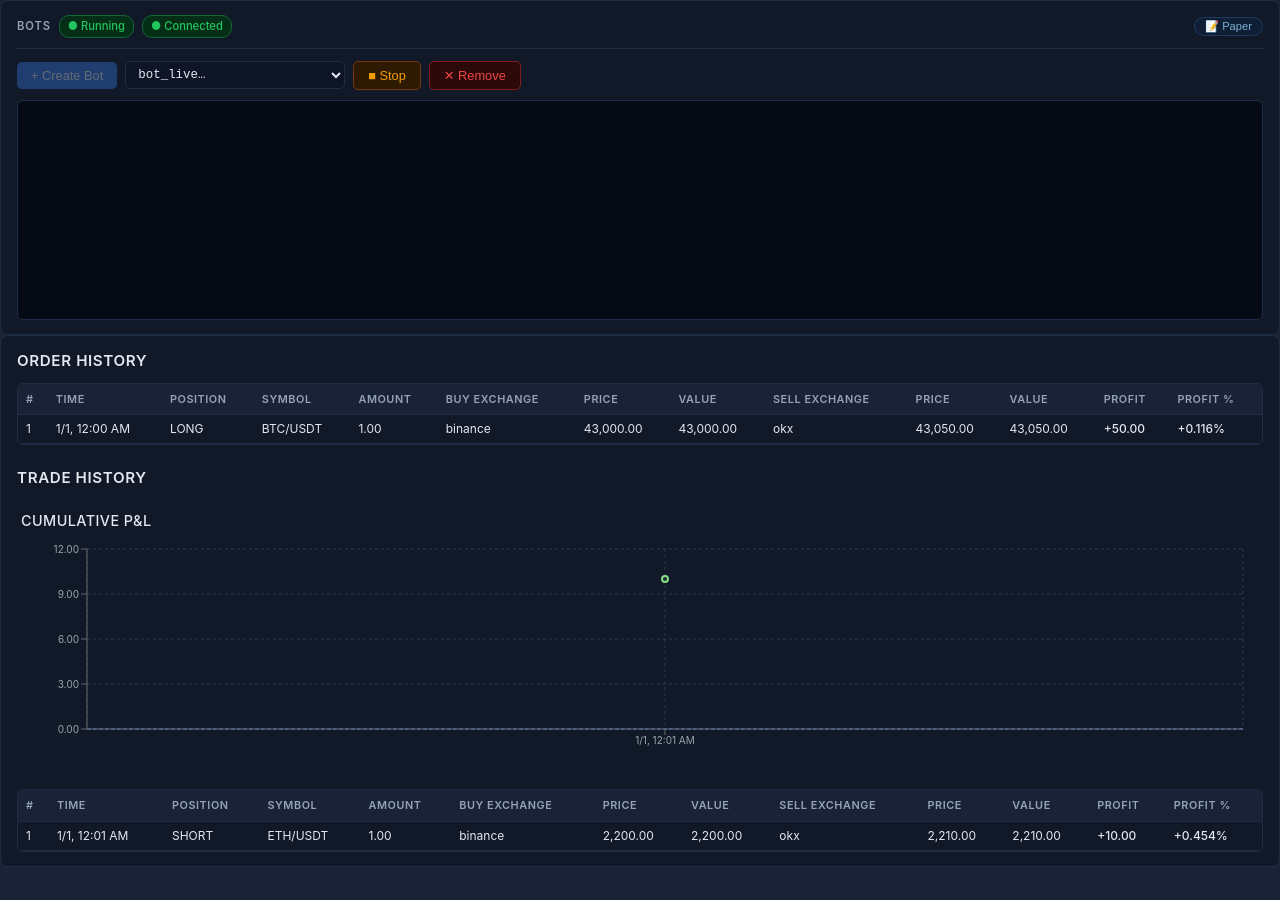
Scenario: Bot workflow — live trading toggle › shows live mode button after confirming live trading
Expected: the message reads "● Running", [68,19,125,33]
Click the button with aria-label "Switch to live trading" at (1229,26), box [1194,17,1263,36]
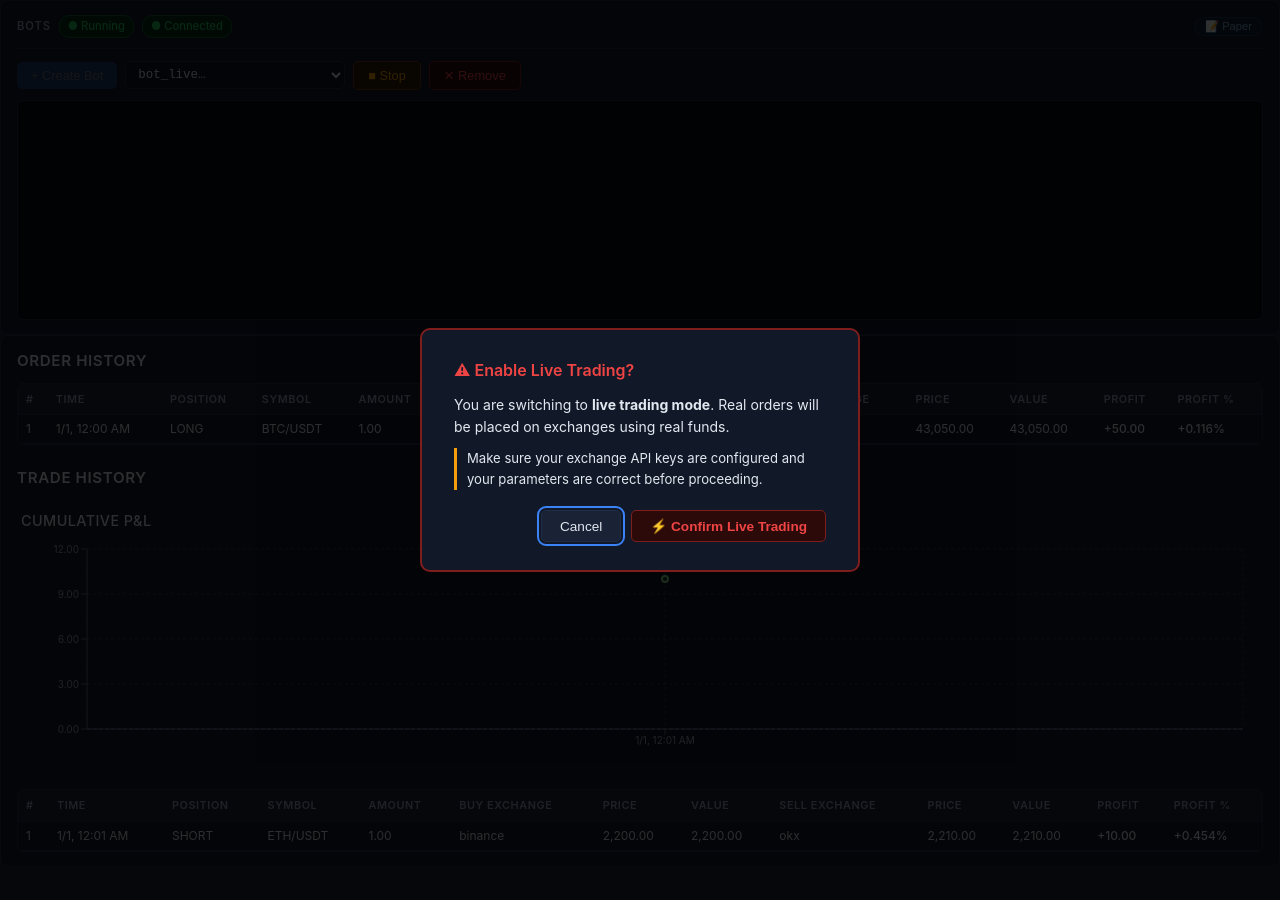
Now the heading "⚠ Enable Live Trading?" is shown, box [454,360,634,380]
Click the button "⚡ Confirm Live Trading" at (729,526), box [631,510,826,542]
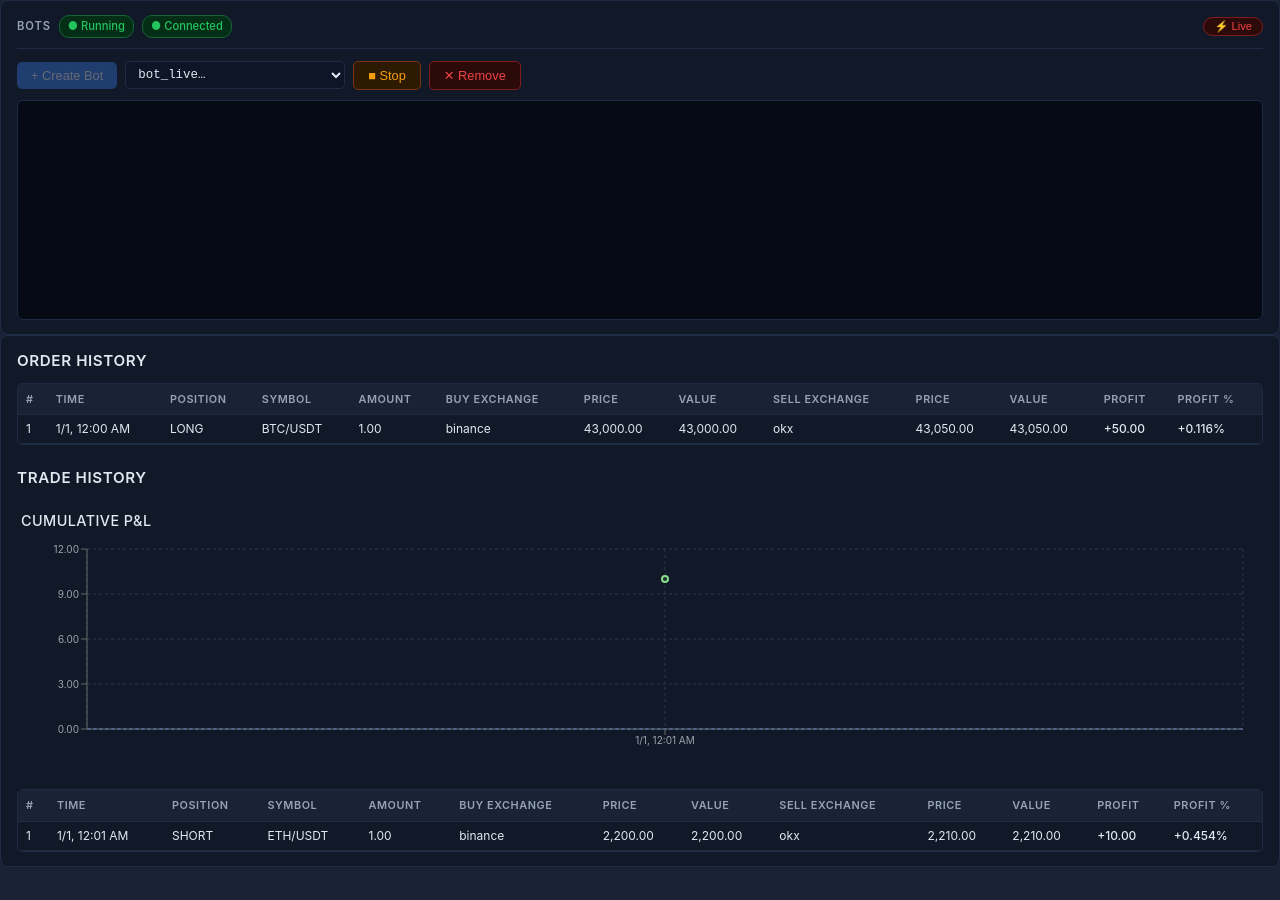
Now the heading "⚠ Enable Live Trading?" is gone
Now the button with aria-label "Switch to paper trading" is shown, box [1203,17,1263,36]
